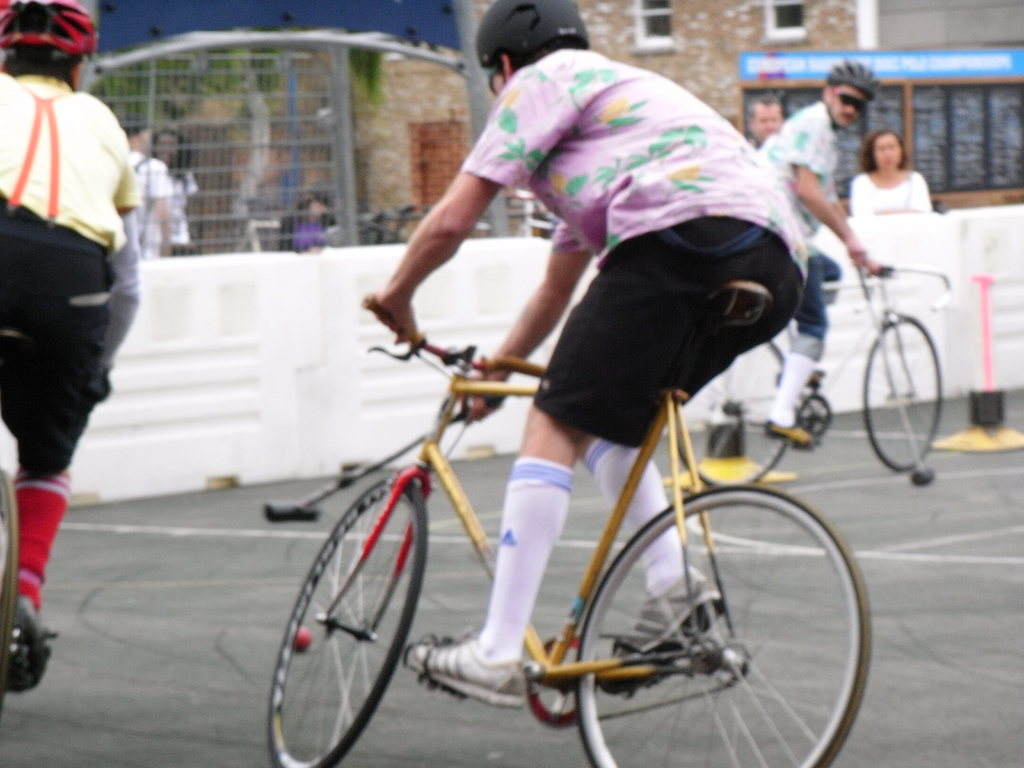Person: (367, 0, 808, 703), (0, 0, 138, 691)
